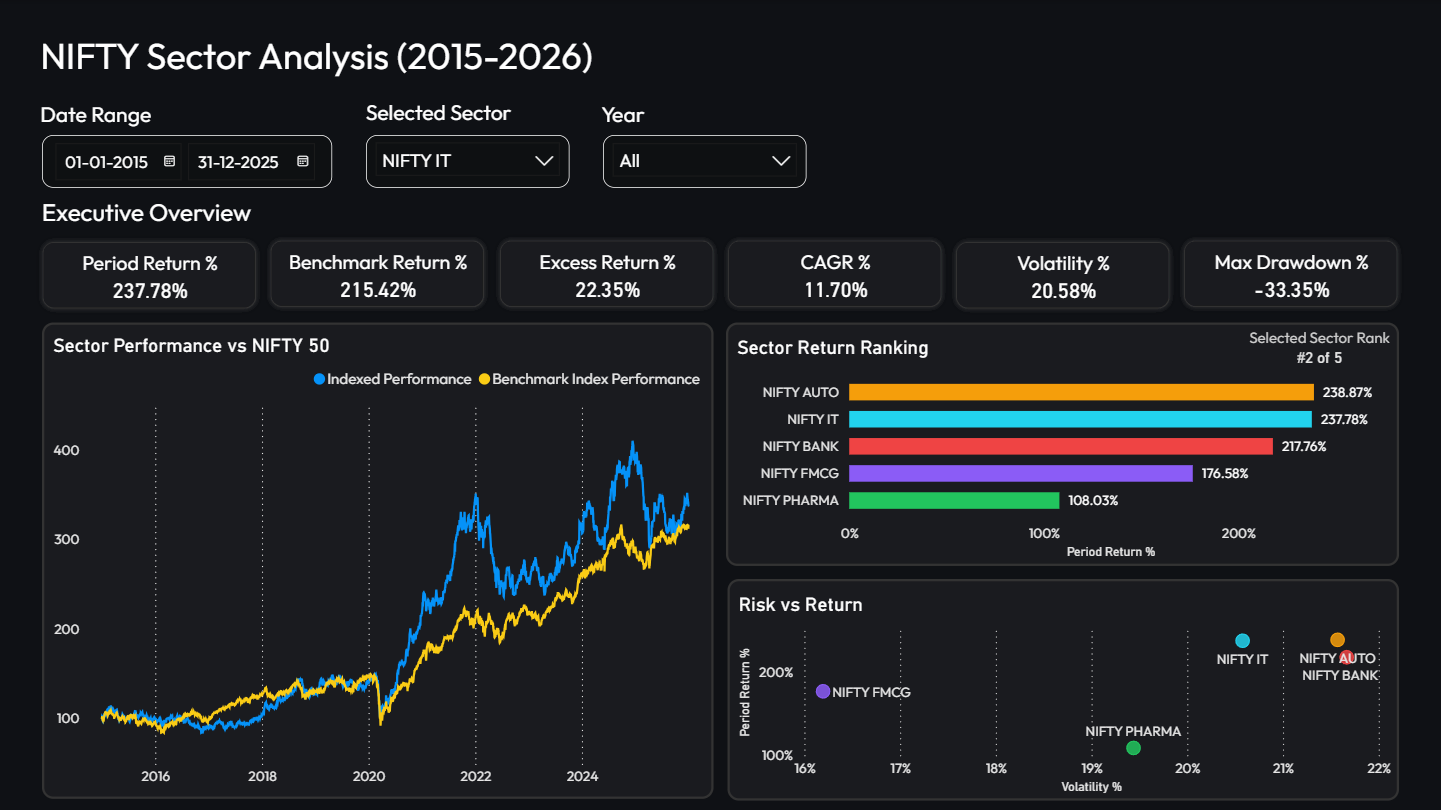

The page's visual inventory and layout, read from the dashboard file:
{"tool":"powerbi","page":{"name":"Page 1","canvas":[1280,720],"ordinal":0},"visuals":[{"type":"slicer","fields":{"Values":["Date_Table.Date"]},"box":[40,119,256.7,46.7],"z":0},{"type":"cardVisual","fields":{"Data":["Measuress.Period Return %"]},"box":[24,197.2,221,91],"z":0,"group":"g1"},{"type":"textbox","box":[33,24,511.5,50],"z":1000},{"type":"cardVisual","fields":{"Data":["Measuress.Excess Return %"]},"box":[428.1,196.6,221,91],"z":1000,"group":"g1"},{"type":"textbox","box":[33,83,117,34.1],"z":2000},{"type":"cardVisual","fields":{"Data":["Measuress.Benchmark Return %"]},"box":[226.1,196.3,221,91],"z":2000,"group":"g1"},{"type":"textbox","box":[34,168,204.8,43.7],"z":3000},{"type":"cardVisual","fields":{"Data":["Measuress.CAGR %"]},"box":[630.1,196.8,221,91],"z":3000,"group":"g1"},{"type":"slicer","fields":{"Values":["nifty_sector_dw dim_sector.sector_name"]},"box":[326,119,180,46.7],"z":4000},{"type":"cardVisual","fields":{"Data":["Measuress.Max Drawdown %"]},"box":[1034.2,196.3,221,91],"z":4000,"group":"g1"},{"type":"textbox","box":[321.2,82.5,145,35],"z":5000},{"type":"cardVisual","fields":{"Data":["Measuress.Volatility %"]},"box":[832.2,197,221,91],"z":5000,"group":"g1"},{"type":"slicer","fields":{"Values":["Date_Table.Year"]},"box":[536,119,180,46.7],"z":6000},{"type":"textbox","box":[530,82.9,132.9,34.1],"z":7000},{"type":"lineChart","title":"Sector Performance vs NIFTY 50","fields":{"Category":["Date_Table.Date"],"Y":["Measuress.Indexed Performance","Measuress.Benchmark Index Performance"]},"box":[40,285.4,593.8,421.5],"z":8000},{"type":"group","id":"g1","title":"Group 2","box":[24,196.3,1231.2,91.9],"z":11000},{"type":"clusteredBarChart","title":"Sector Return Ranking","fields":{"Y":["Measuress.Period Return %"],"Category":["nifty_sector_dw dim_sector.sector_name"]},"box":[645,285,595,215],"z":11500},{"type":"scatterChart","title":"Risk vs Return","fields":{"X":["Measuress.Volatility %"],"Y":["Measuress.Period Return %"],"Category":["nifty_sector_dw dim_sector.sector_name"]},"box":[646,512,594,196],"z":12000},{"type":"cardVisual","fields":{"Data":["Measuress.Sector Rank"]},"box":[1100,285,140,43.3],"z":13000}]}

Visuals, with their boxes in screenshot pixels (x1, y1, x2, y2), scaled from the page's 1280x720 canvas onto the 1441x810 screenshot:
slicer - Date_Table.Date: 45:134:334:186
cardVisual - Measuress.Period Return %: 27:222:276:324
textbox: 37:27:613:83
cardVisual - Measuress.Excess Return %: 482:221:731:324
textbox: 37:93:169:132
cardVisual - Measuress.Benchmark Return %: 255:221:503:323
textbox: 38:189:269:238
cardVisual - Measuress.CAGR %: 709:221:958:324
slicer - nifty_sector_dw dim_sector.sector_name: 367:134:570:186
cardVisual - Measuress.Max Drawdown %: 1164:221:1413:323
textbox: 362:93:525:132
cardVisual - Measuress.Volatility %: 937:222:1186:324
slicer - Date_Table.Year: 603:134:806:186
textbox: 597:93:746:132
"Sector Performance vs NIFTY 50" lineChart: 45:321:714:795
"Group 2" group: 27:221:1413:324
"Sector Return Ranking" clusteredBarChart: 726:321:1396:562
"Risk vs Return" scatterChart: 727:576:1396:796
cardVisual - Measuress.Sector Rank: 1238:321:1396:369
